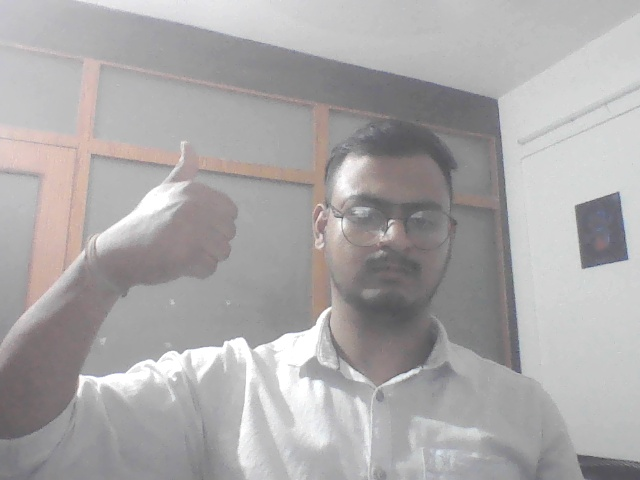Good: (107, 130, 250, 291)
